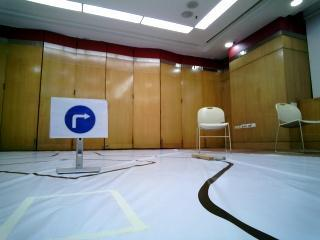right: (58, 103, 102, 136)
